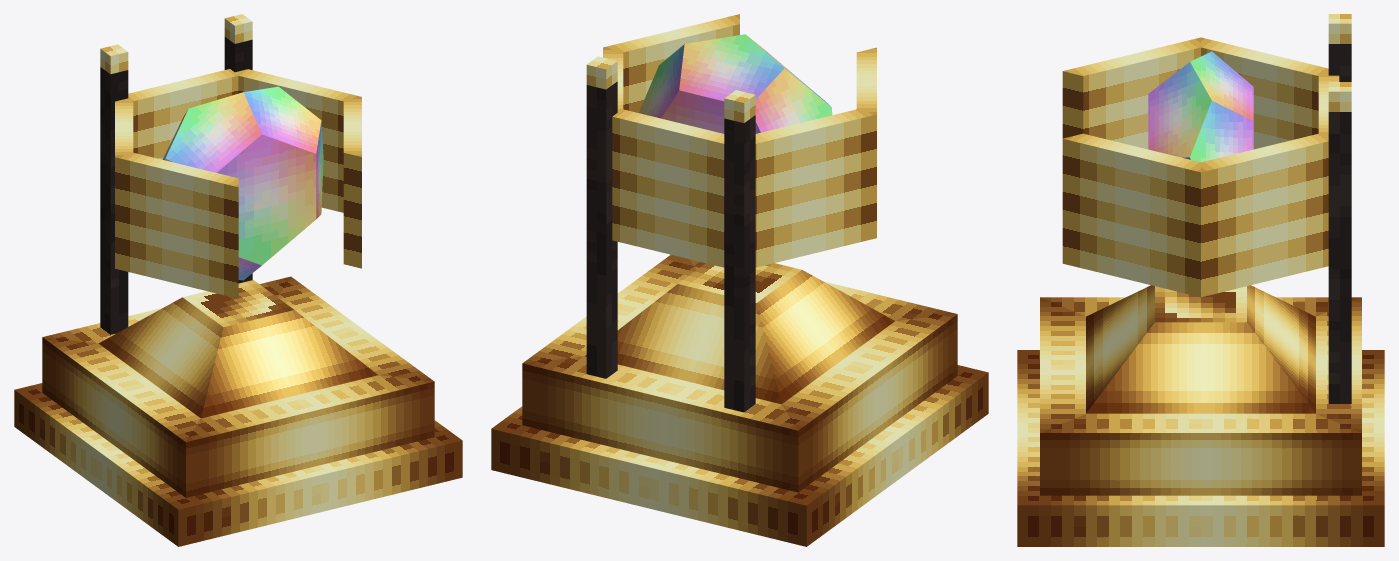
File: radiant_trove.obj
3 views of the same model, side by side, from view 1: azimuth 30°, elevation 25°; view 2: azimuth 150°, elevation 25°; view 3: azimuth 270°, elevation 25° (orthographic). The views are drawn at different scales.
Parts seen in each view (by area): view 1: Base, Reader, MainCrystal, Struts; view 2: Base, Reader, Struts, MainCrystal; view 3: Base, Reader, Struts, MainCrystal.
Part boxes in pixels (x1,y1,x2,y2): Base: [14, 276, 462, 546]; Reader: [115, 69, 361, 298]; MainCrystal: [162, 86, 323, 280]; Struts: [100, 14, 252, 334]; Base: [491, 255, 988, 546]; Reader: [603, 14, 876, 267]; Struts: [586, 56, 755, 412]; MainCrystal: [639, 34, 832, 133]; Base: [1017, 285, 1384, 546]; Reader: [1062, 37, 1339, 297]; Struts: [1328, 14, 1351, 403]; MainCrystal: [1148, 51, 1253, 162].
Bounding box in the file's own units: 0.7874 × 0.9843 × 0.7874.
